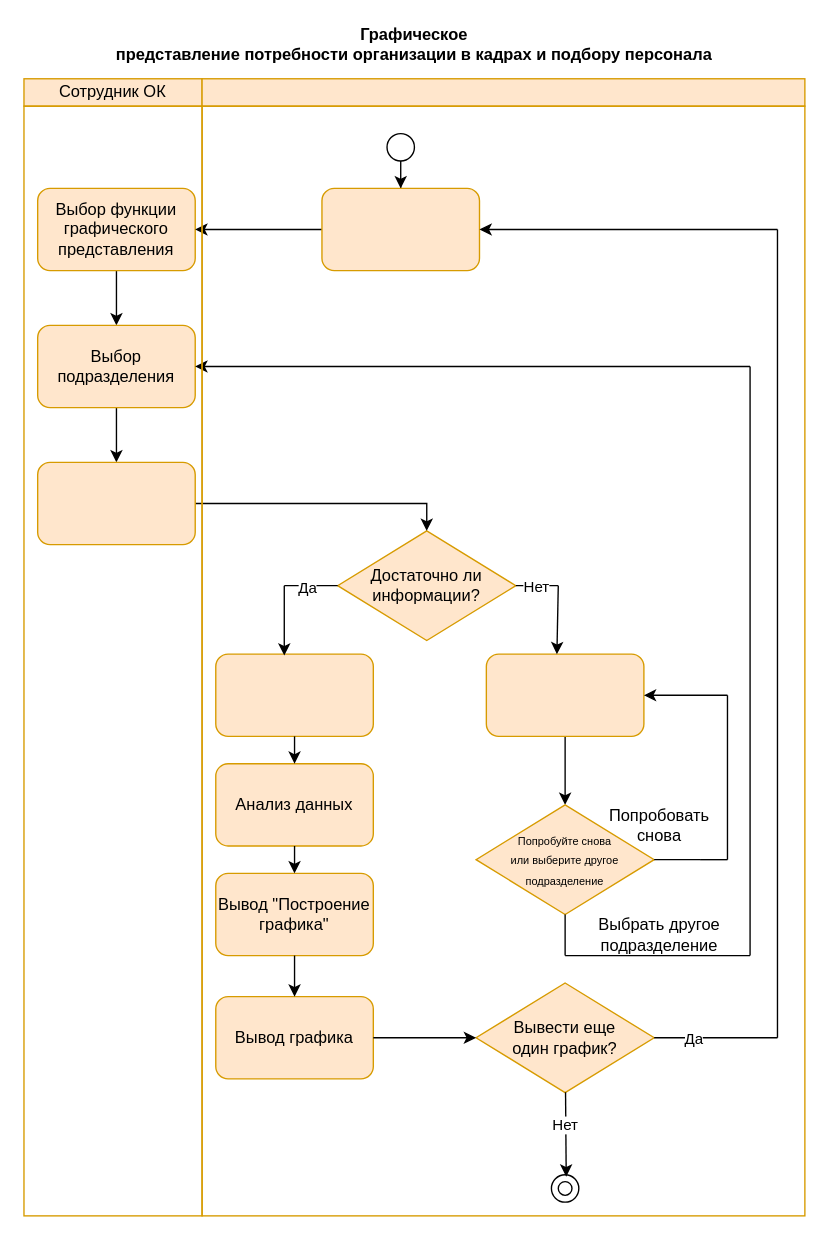
The diagram is 829 pixels wide and 1240 high, and some of its shapes have lost their labels. The shapes that lost their labels are listed below. From the top down, each one's centre as x and y in pixels, then its label:
[503,91]: АРМ сотрудника ОК
[400,229]: Окно информации о персонале
[115,503]: Выбор типа графика
[293,694]: Сбор данных о потребности в кадрах
[564,694]: Ошибка "Недостаточно информации для вывода"
